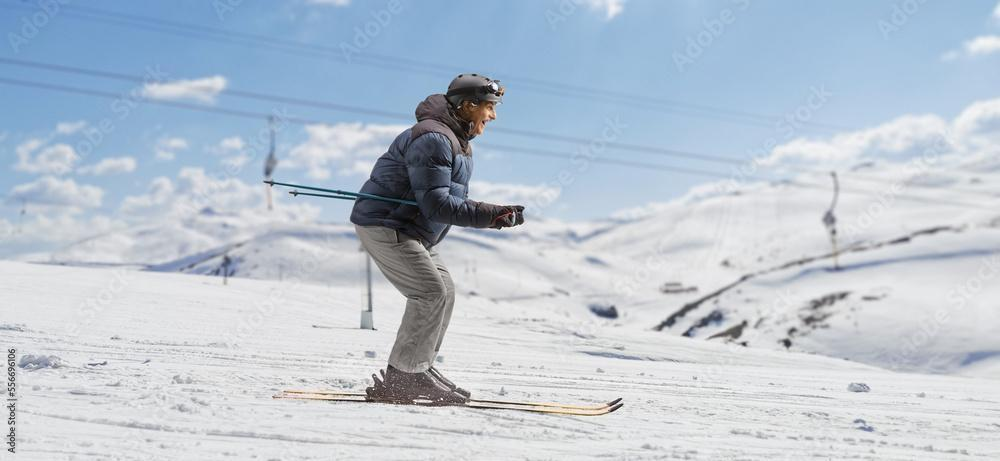Skis: (260, 362, 647, 434)
